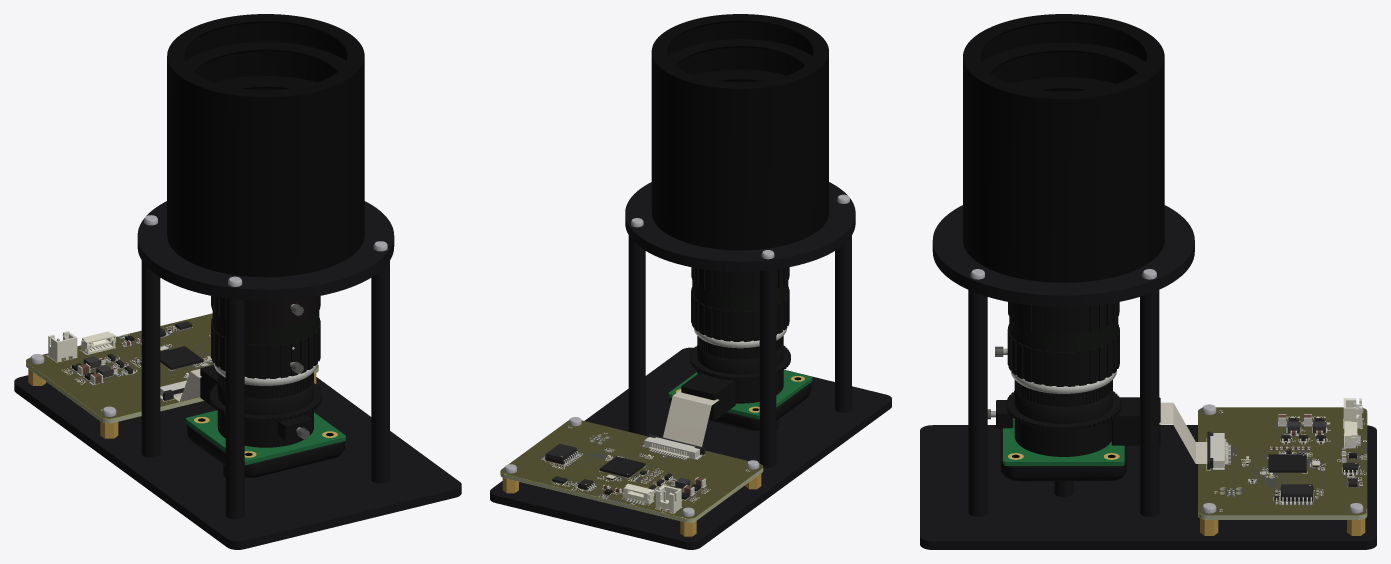
File: star-tracker-n6.glb
3 views of the same model, side by side, from view 1: azimuth 30°, elevation 25°; view 2: azimuth 150°, elevation 25°; view 3: azimuth 270°, elevation 25° (orthographic). The views are drawn at different scales.
Parts seen in each view (by area): view 1: Baffle, Mount, Global Shutter Camera, 16 mm lens, Board, Bus connectors, STM32N6 power, STM32N657 core; view 2: Baffle, Mount, Global Shutter Camera, 16 mm lens, Board, Camera cable, Bus connectors, Camera connector, STM32N657 core, STM32N6 power, Octal flash; view 3: Baffle, Mount, Global Shutter Camera, 16 mm lens, Board, Camera cable, STM32N657 core, Bus connectors, STM32N6 power, Camera connector, Octal flash.
Boxes of the visible parts, box(x1,y1,x2,y2) form: Baffle: box(167, 14, 364, 277); Mount: box(14, 201, 461, 549); Global Shutter Camera, 16 mm lens: box(186, 296, 345, 477); Board: box(26, 313, 318, 423); Bus connectors: box(48, 331, 115, 362); STM32N6 power: box(66, 353, 137, 384); STM32N657 core: box(134, 344, 212, 369); Baffle: box(651, 14, 828, 250); Mount: box(490, 182, 891, 549); Global Shutter Camera, 16 mm lens: box(668, 267, 812, 430); Board: box(500, 420, 763, 522); Camera cable: box(649, 390, 718, 457); Bus connectors: box(622, 483, 681, 512); Camera connector: box(642, 434, 705, 459); STM32N657 core: box(599, 455, 659, 482); STM32N6 power: box(645, 473, 706, 500); Octal flash: box(542, 443, 582, 467); Baffle: box(963, 14, 1164, 282); Mount: box(920, 205, 1376, 549); Global Shutter Camera, 16 mm lens: box(987, 302, 1160, 481); Board: box(1198, 407, 1367, 519); Camera cable: box(1159, 402, 1227, 463); STM32N657 core: box(1263, 446, 1320, 477); Bus connectors: box(1343, 398, 1361, 448); STM32N6 power: box(1278, 414, 1325, 443); Camera connector: box(1207, 431, 1228, 469); Octal flash: box(1274, 484, 1318, 503).
Bounding box in the file's own units: 0.089 × 0.1497 × 0.143.
